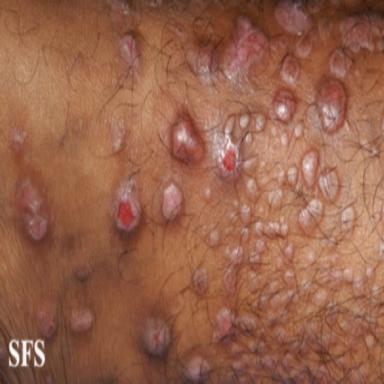Epidermolysis-Bullosa-Pruriginosa: (211, 112, 384, 382), (313, 12, 384, 134), (270, 0, 334, 123), (187, 15, 269, 83), (108, 0, 139, 74), (17, 177, 48, 241), (169, 108, 205, 163), (115, 181, 140, 231), (144, 320, 170, 355), (162, 182, 182, 220), (36, 303, 57, 339), (186, 356, 210, 383), (71, 308, 92, 333), (11, 128, 26, 157), (192, 267, 207, 294), (113, 120, 126, 151), (73, 263, 90, 281), (209, 230, 219, 245), (205, 187, 211, 199)
